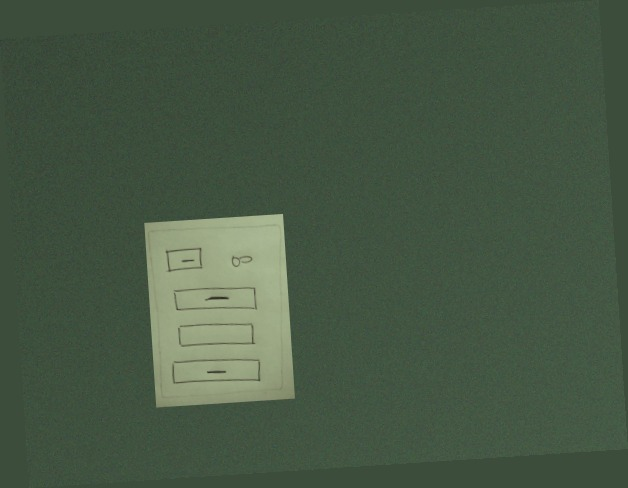button: (169, 354, 265, 391), (171, 282, 259, 318), (163, 246, 206, 275)
switch: (227, 251, 255, 272)
text_input: (174, 317, 259, 353)
